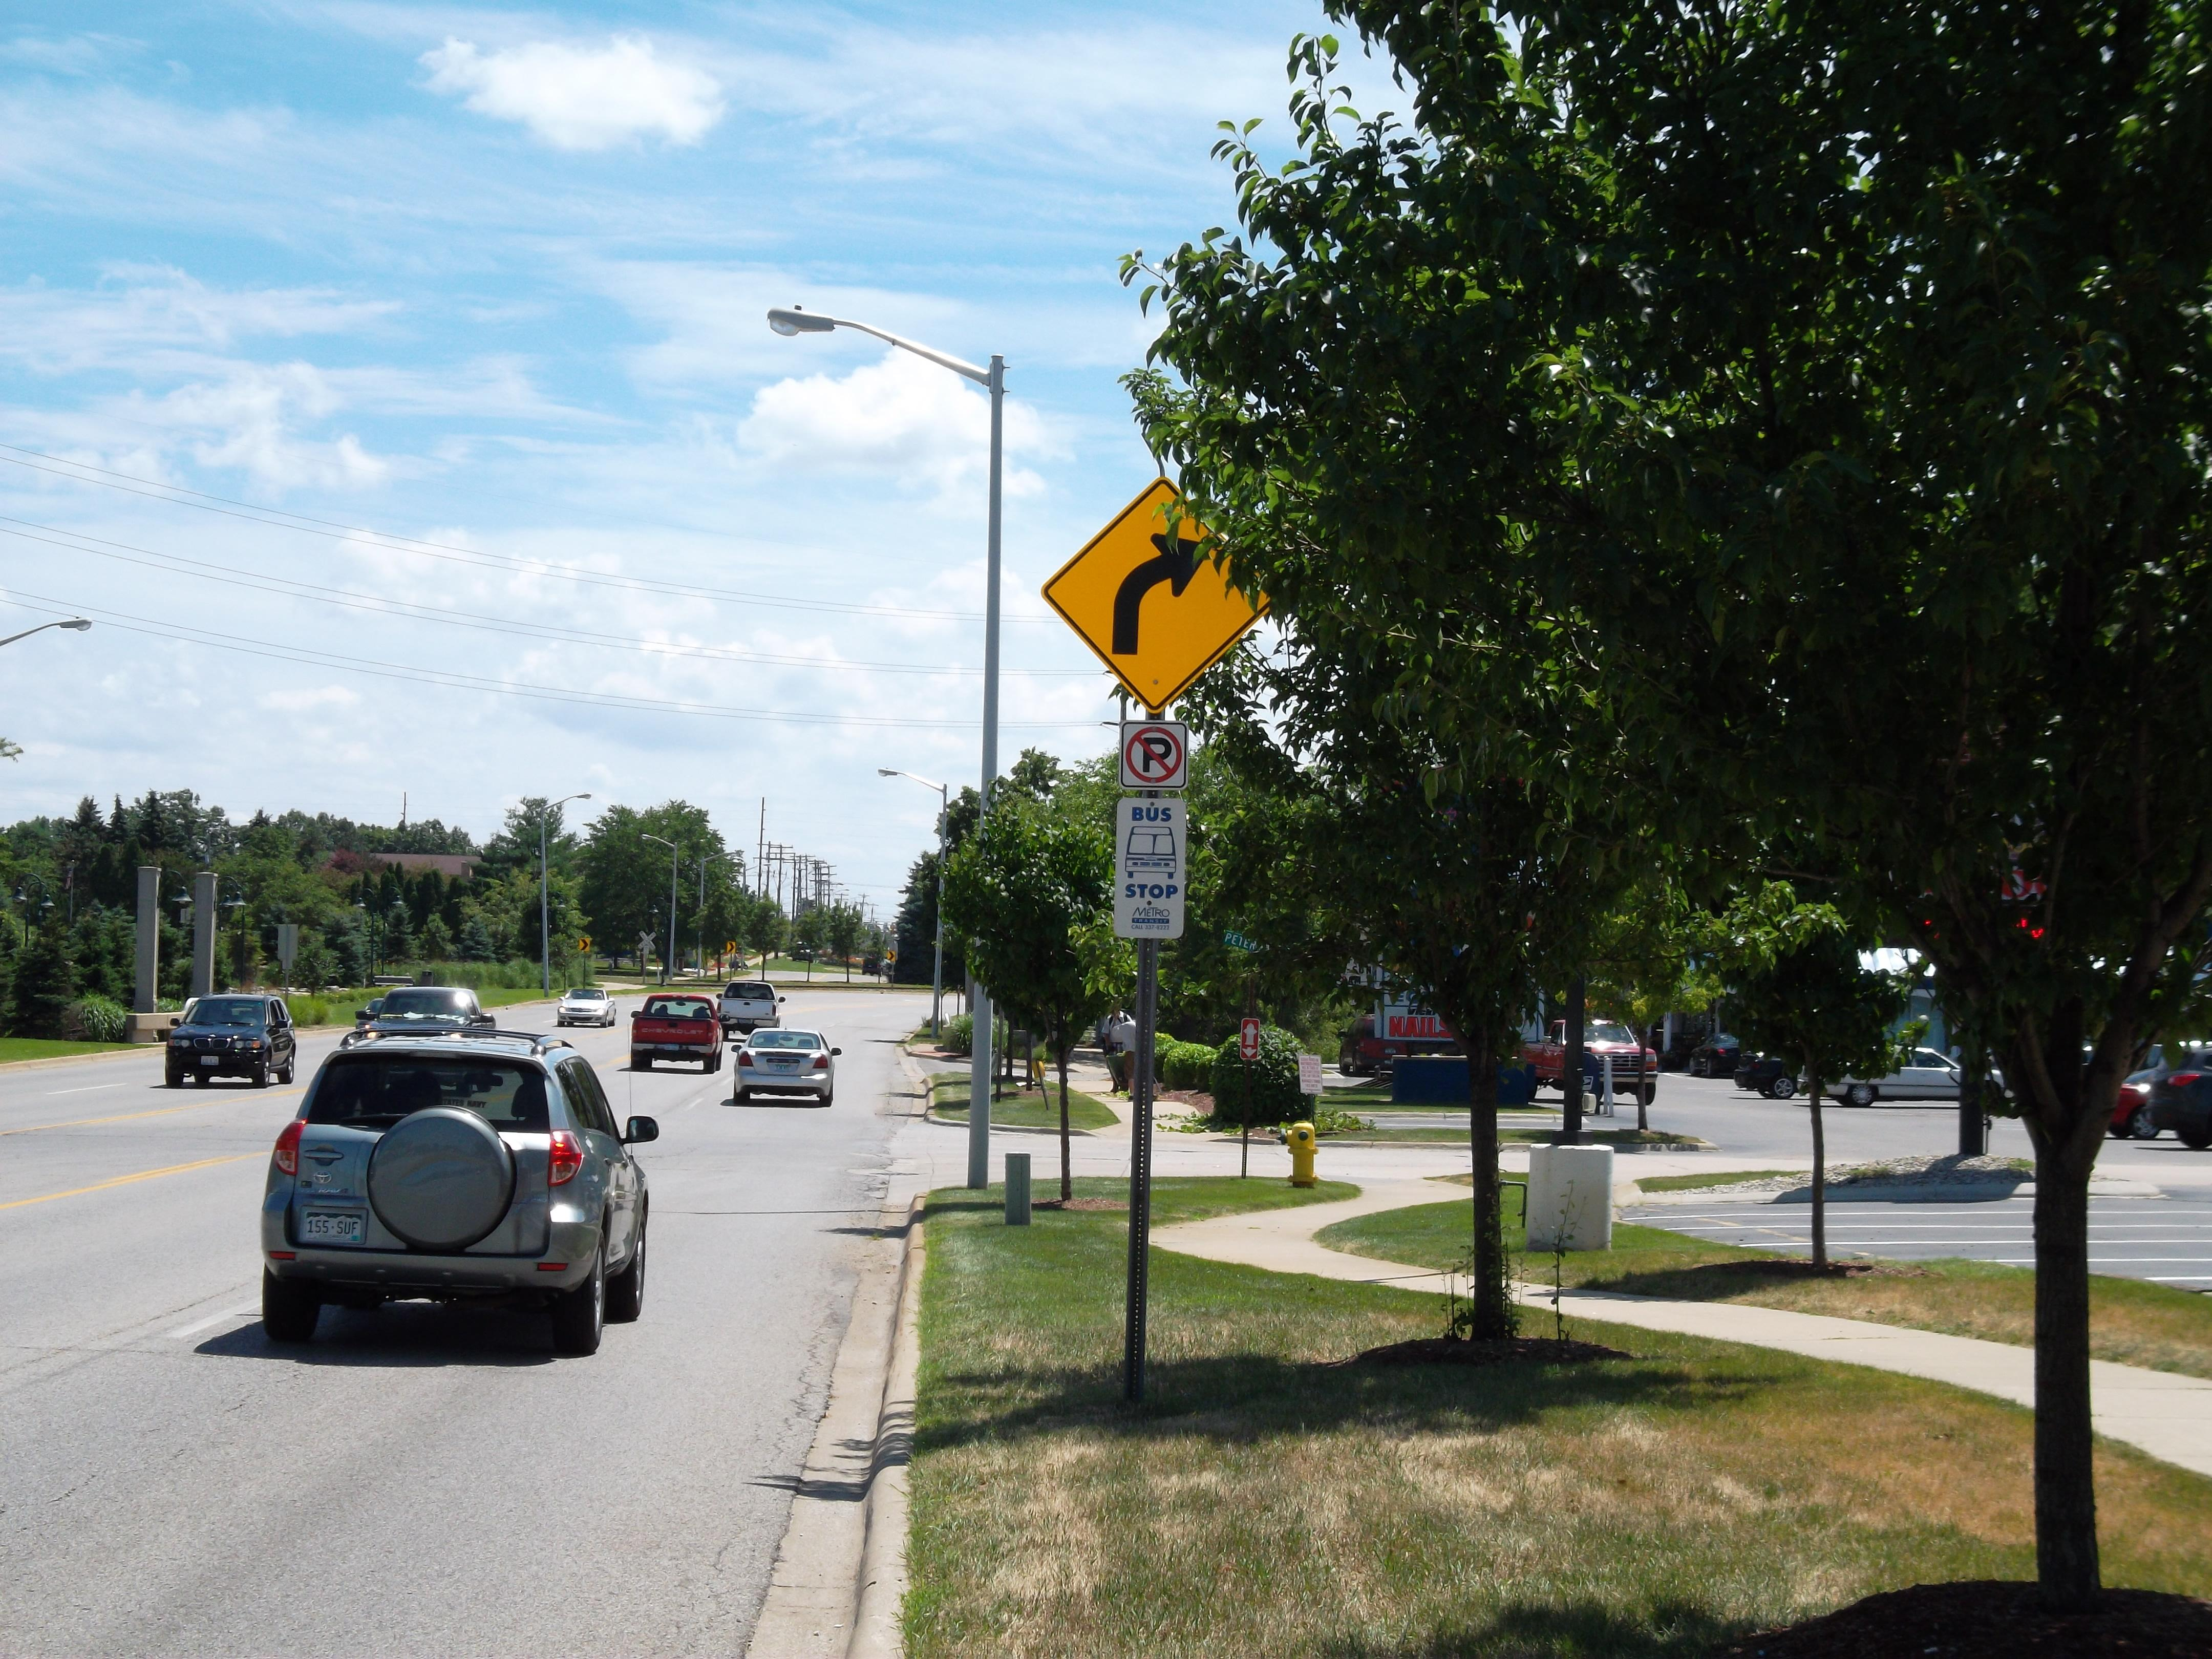regulatory: (1120, 721, 1191, 791)
warning: (1035, 486, 1285, 711)
